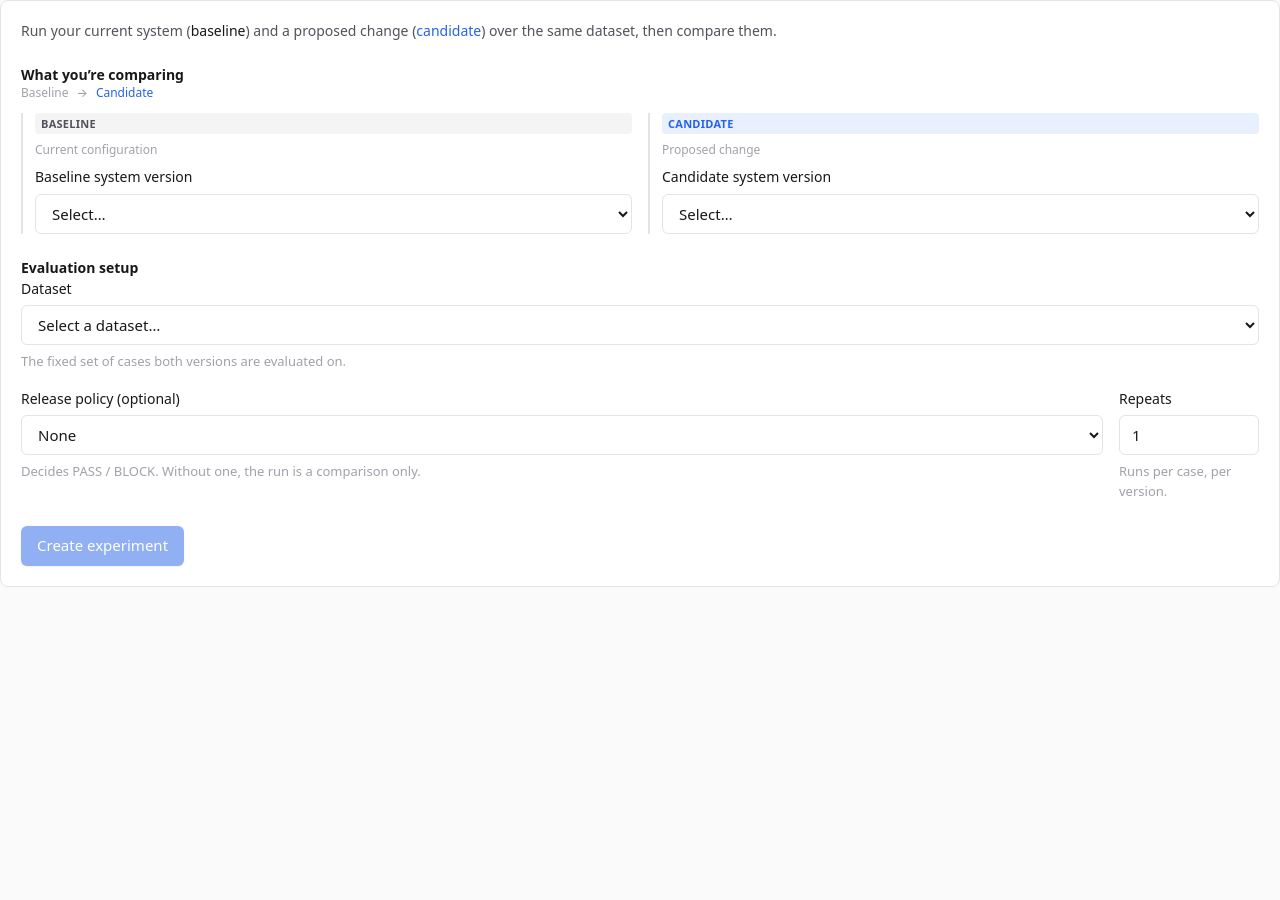
Test: ExperimentForm › blocks submit when baseline and candidate are the same
Select "support v1 · 2 cases" in the dropdown labelled "Dataset". click: (640, 325)
box: [21, 305, 1259, 345]
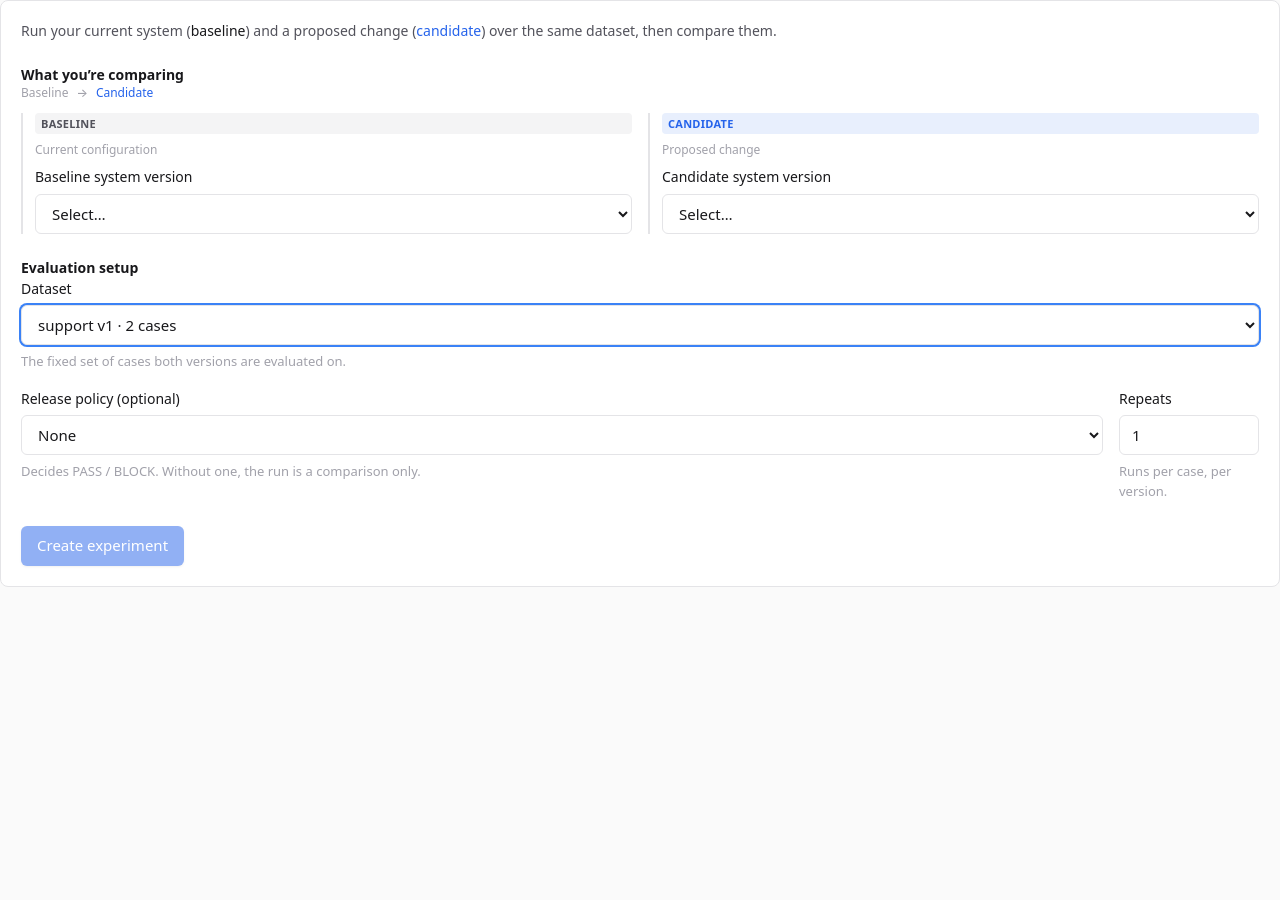
Select "support-prompt v1 — ollama/llama3.2" in the dropdown labelled "Baseline system version". click: (334, 214)
box: [35, 194, 632, 234]
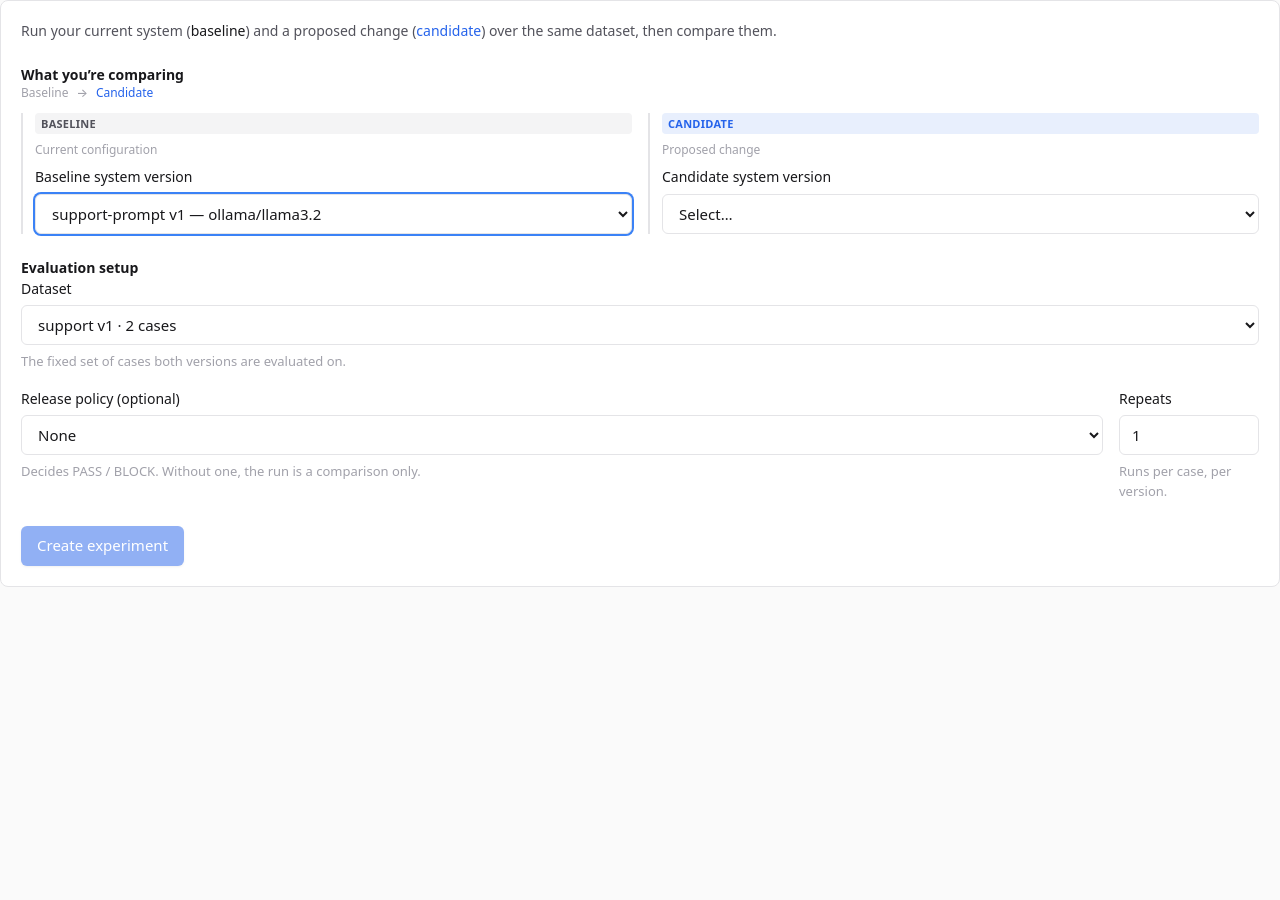
Select "support-prompt v1 — ollama/llama3.2" in the dropdown labelled "Candidate system version". click: (960, 214)
box: [662, 194, 1259, 234]
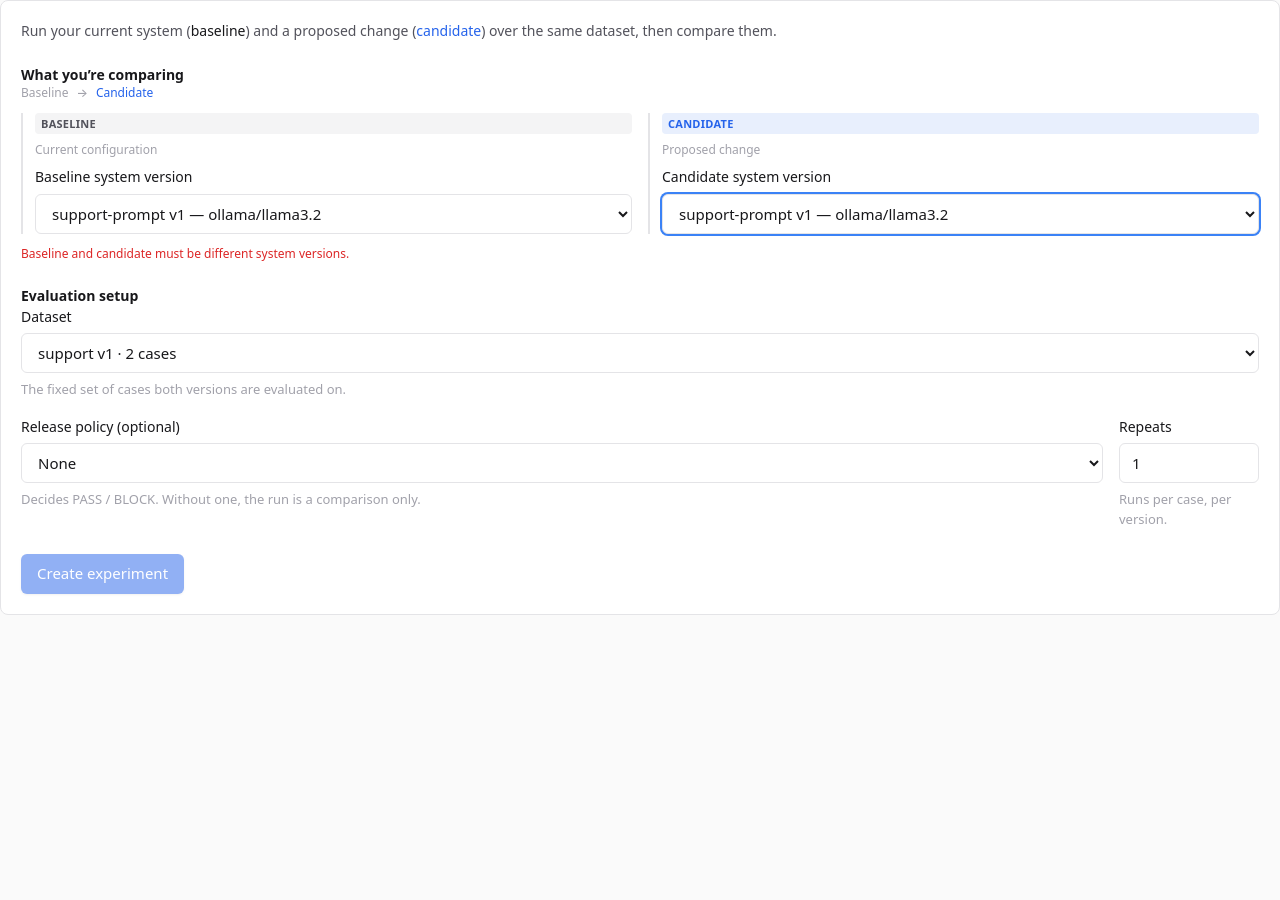
Expected: the button "Create experiment" is disabled, [21, 554, 184, 594]
Now the text "Baseline and candidate must be different system versions." is shown, box [21, 245, 349, 262]
